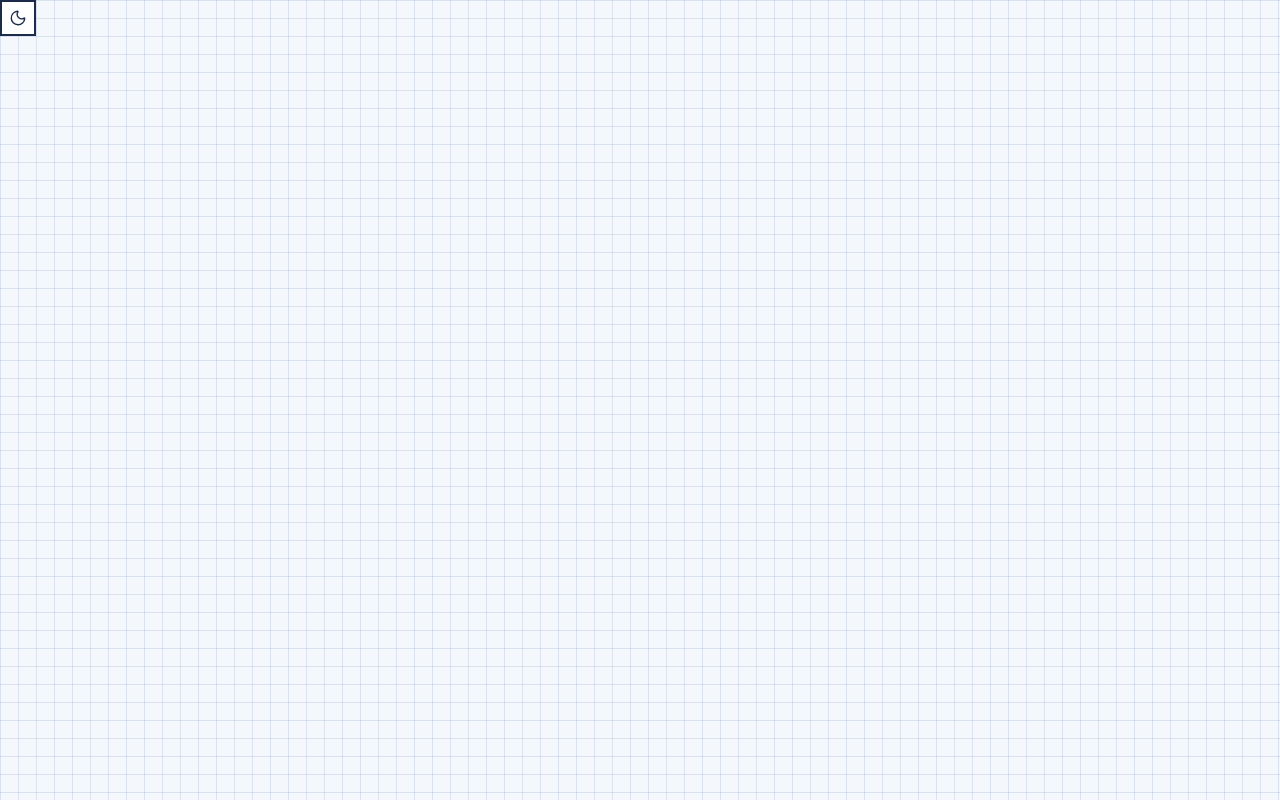
Test: ThemeSwitch › switches to night paper and back, and remembers the choice
This screenshot has width=1280, height=800.
Click the button named "Night paper" at (18, 18), box left=0, top=0, right=36, bottom=36
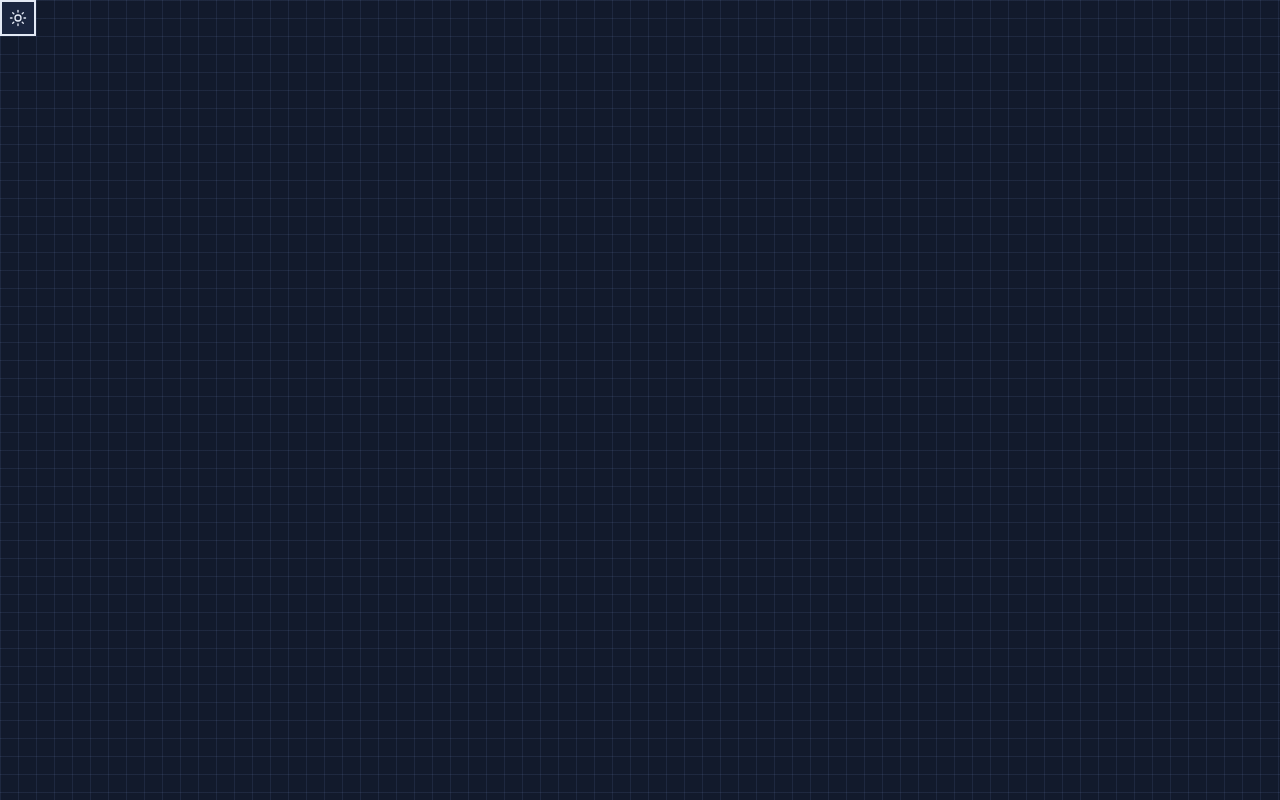
Result: the button named "Night paper" is pressed
Click the button named "Night paper" at (18, 18), box left=0, top=0, right=36, bottom=36
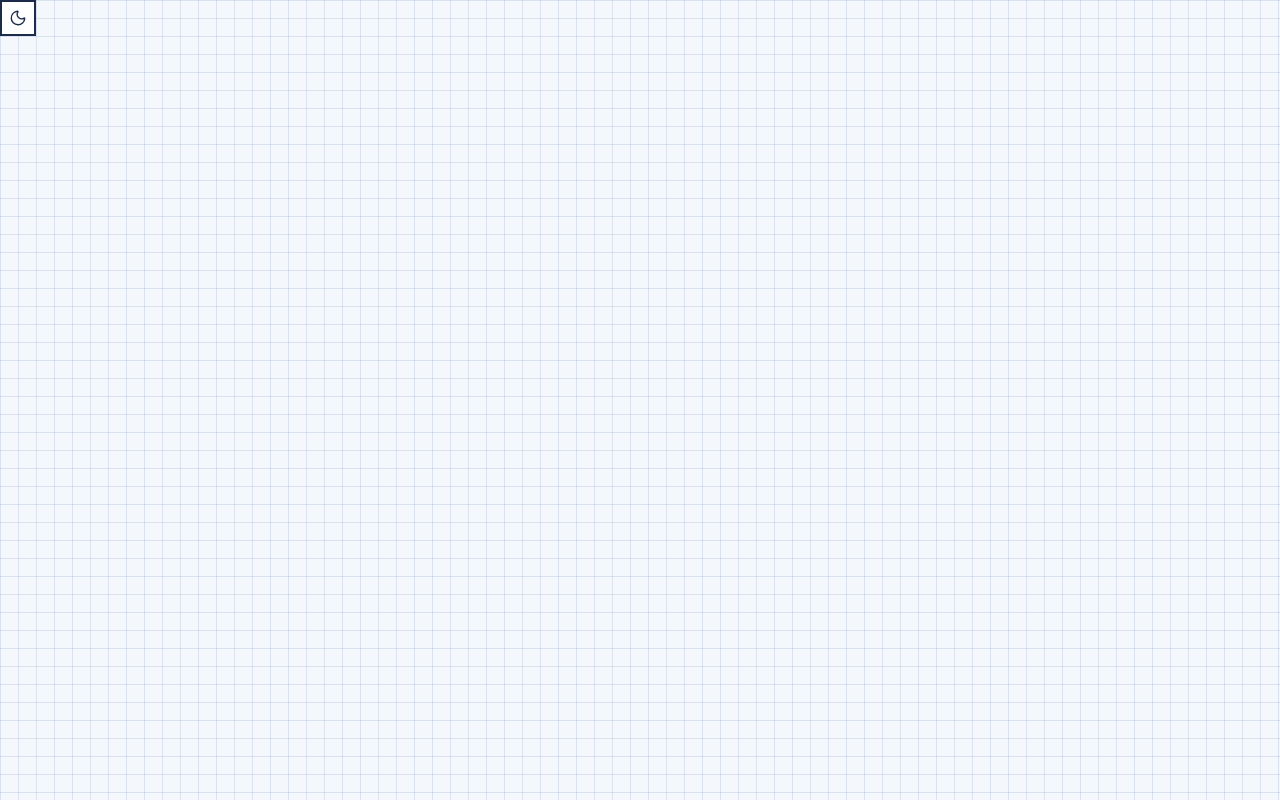
Result: the button named "Night paper" is not pressed at left=0, top=0, right=36, bottom=36
